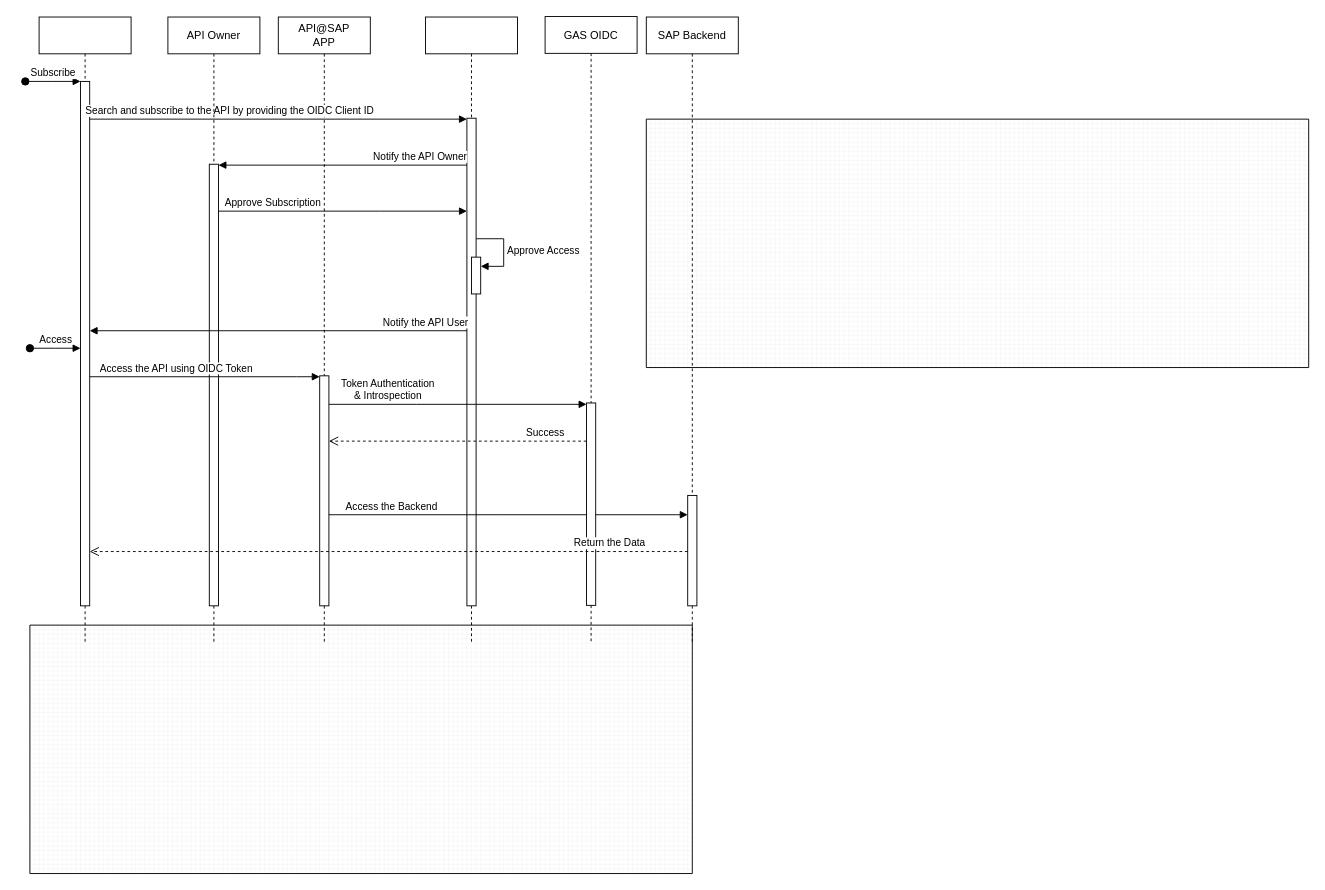
Image size: 1325x890. Some labels were removed from this diagram. Here are the shapes that lost their labels. From the top down, the box of each, then its label:
(38, 16, 131, 644): API@SAP User
(425, 16, 518, 644): One API Hub
